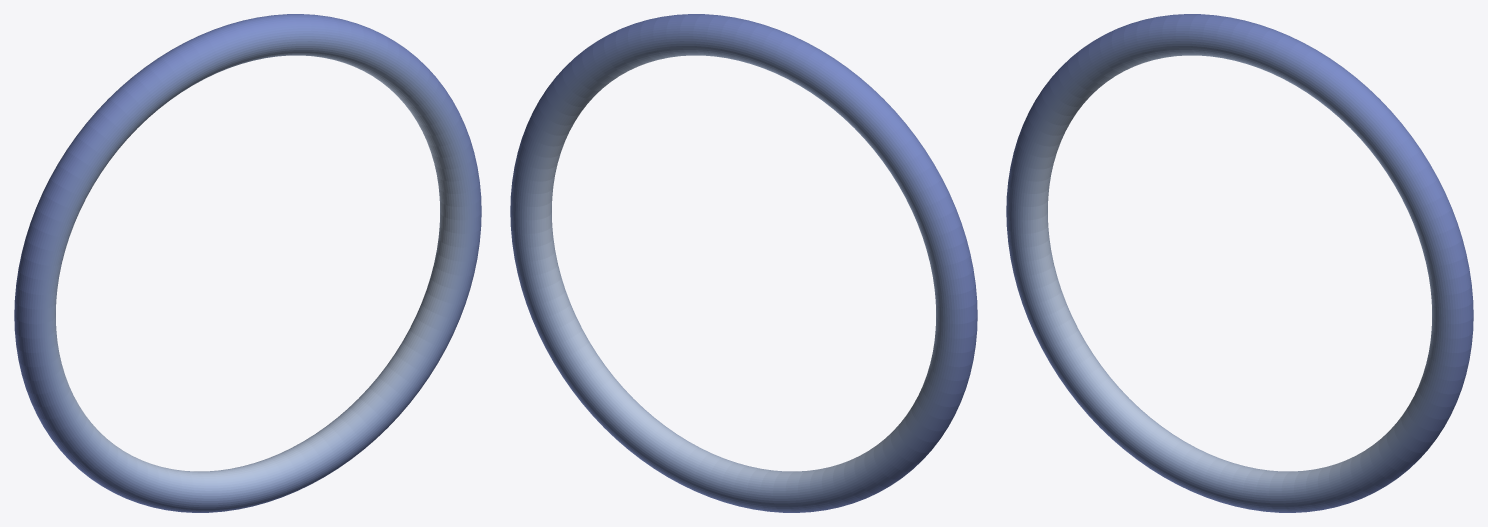
3 views of the same model, side by side, from view 1: azimuth 30°, elevation 25°; view 2: azimuth 150°, elevation 25°; view 3: azimuth 330°, elevation 25° (orthographic).
Visible parts, largest first — view 1: world; view 2: world; view 3: world.
Part boxes in pixels (left/top/right/bottom): world: left=14, top=14, right=481, bottom=512; world: left=510, top=14, right=977, bottom=512; world: left=1006, top=14, right=1473, bottom=512.
Size of the model in its own units: 32.53 by 32.53 by 2.53.
